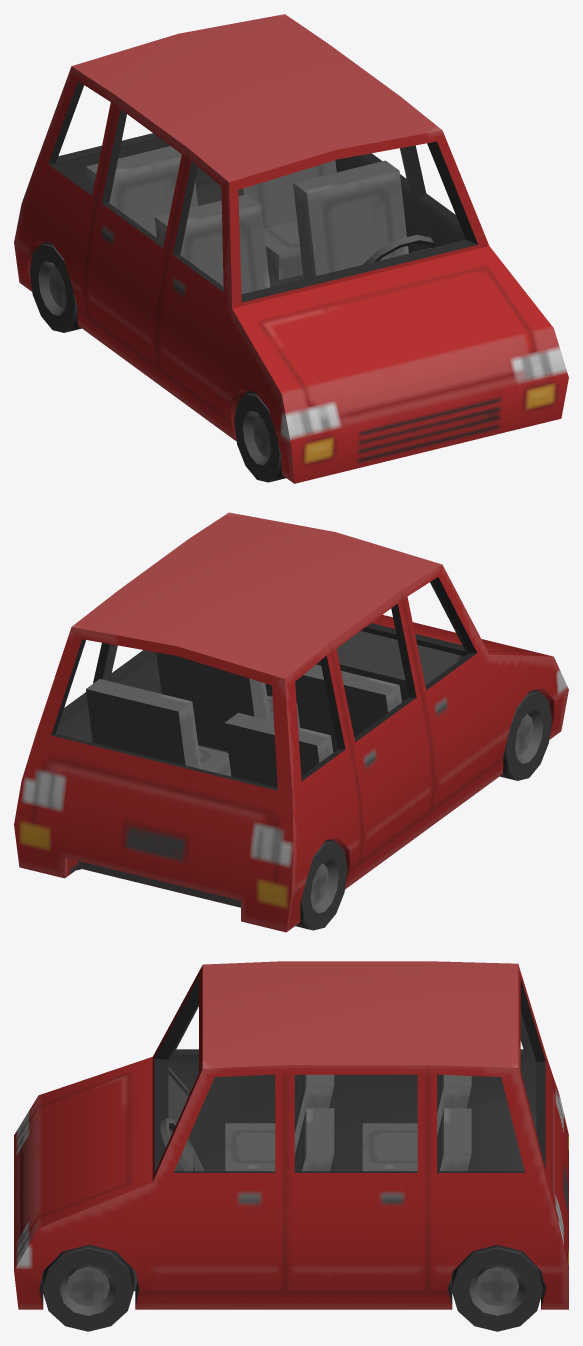
The model's file is Car_001.FBX.
3 renders of one model, top to bottom at view 1: azimuth 30°, elevation 25°; view 2: azimuth 150°, elevation 25°; view 3: azimuth 270°, elevation 25°, orthographic.
Parts seen in each view (by area): view 1: Car_001, Car_001_Right_Wheel, Car_001_Rear_Wheel; view 2: Car_001, Car_001_Right_Wheel, Car_001_Rear_Wheel; view 3: Car_001, Car_001_Left_Wheel, Car_001_Rear_Wheel.
Part boxes in pixels (x1,y1,x2,y2): Car_001: [14, 14, 568, 483]; Car_001_Right_Wheel: [234, 392, 286, 482]; Car_001_Rear_Wheel: [29, 242, 81, 332]; Car_001: [14, 512, 568, 932]; Car_001_Right_Wheel: [500, 690, 551, 780]; Car_001_Rear_Wheel: [76, 840, 347, 930]; Car_001: [14, 961, 568, 1309]; Car_001_Left_Wheel: [42, 1244, 133, 1331]; Car_001_Rear_Wheel: [451, 1244, 543, 1331].
Size of the model in its own units: 175 by 302 by 156.
